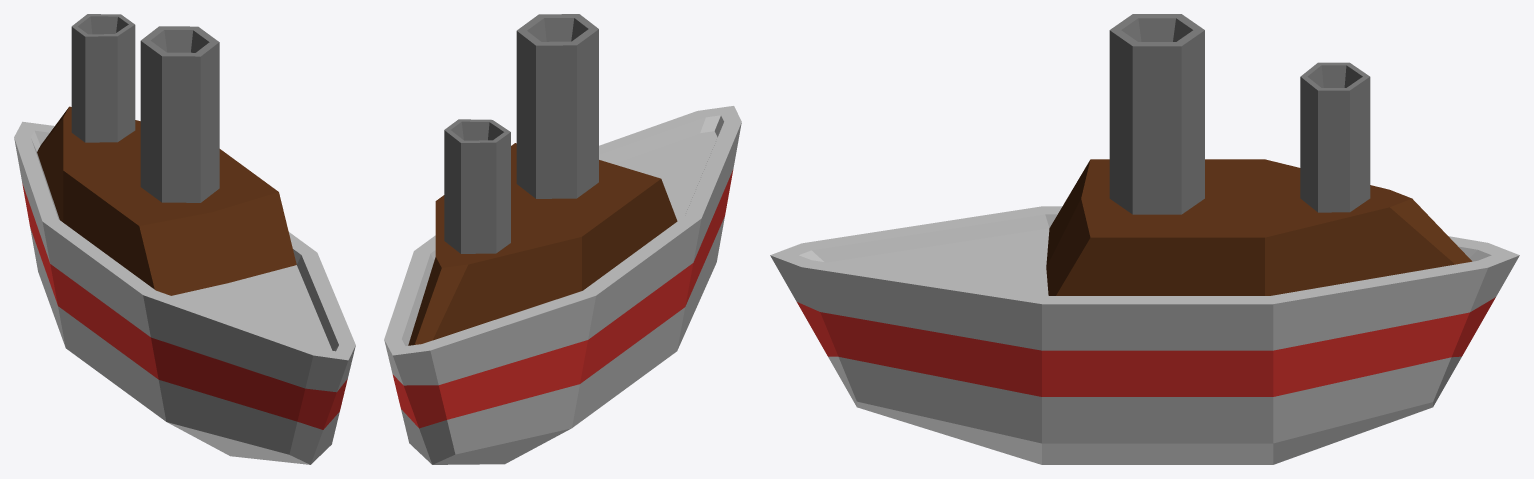
The model's file is steamboat.glb.
The picture shows the model from 3 angles, left to right: view 1: azimuth 30°, elevation 25°; view 2: azimuth 150°, elevation 25°; view 3: azimuth 270°, elevation 25°; orthographic projection. The views are drawn at different scales.
Parts seen in each view (by area): view 1: boat; view 2: boat; view 3: boat.
Boxes of the visible parts, x1,y1,x2,y2 form: boat: (14, 14, 355, 464); boat: (384, 14, 741, 464); boat: (770, 14, 1519, 464).
Bounding box in the file's own units: 2 × 4.15 × 6.48.
